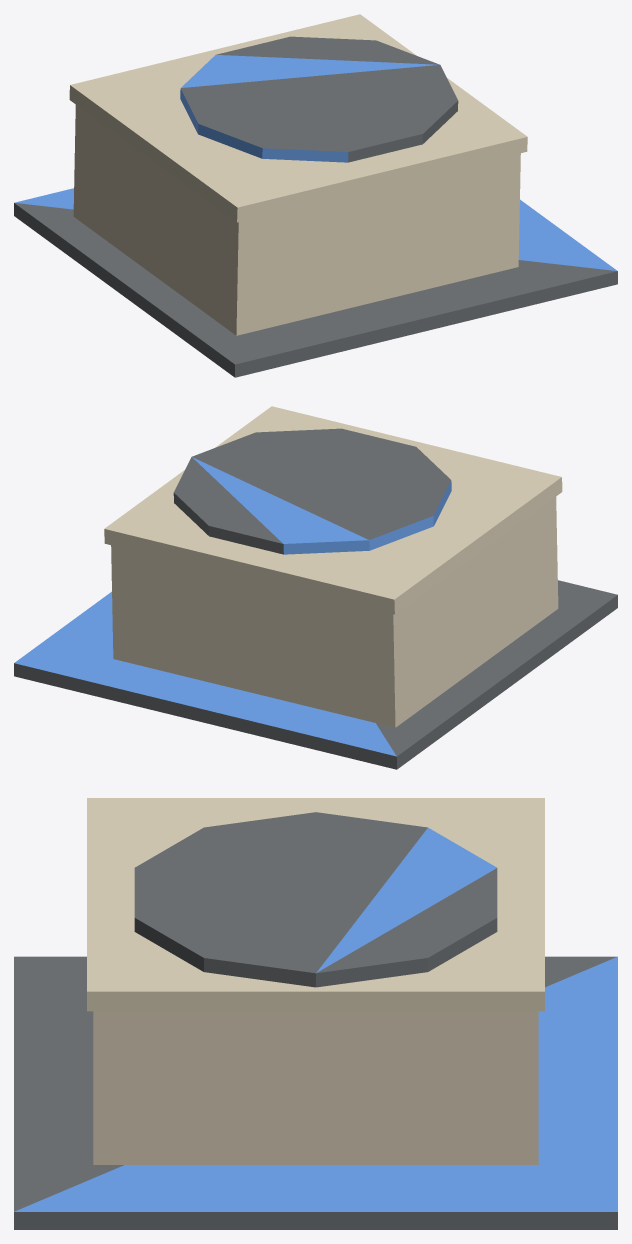
File: meridian_radar_damaged.glb
The picture shows the model from 3 angles, top to bottom: view 1: azimuth 30°, elevation 25°; view 2: azimuth 150°, elevation 25°; view 3: azimuth 270°, elevation 25°; orthographic projection. The views are drawn at different scales.
Visible parts, largest first — view 1: hull, dish; view 2: hull, dish; view 3: hull, dish.
Boxes of the visible parts, x1=… form: hull: x1=14, y1=14, x2=617, y2=377; dish: x1=180, y1=36, x2=458, y2=162; hull: x1=14, y1=406, x2=617, y2=769; dish: x1=173, y1=428, x2=451, y2=554; hull: x1=14, y1=798, x2=617, y2=1229; dish: x1=134, y1=812, x2=497, y2=987.
Size of the model in its own units: 7.6 by 2.94 by 7.6.
